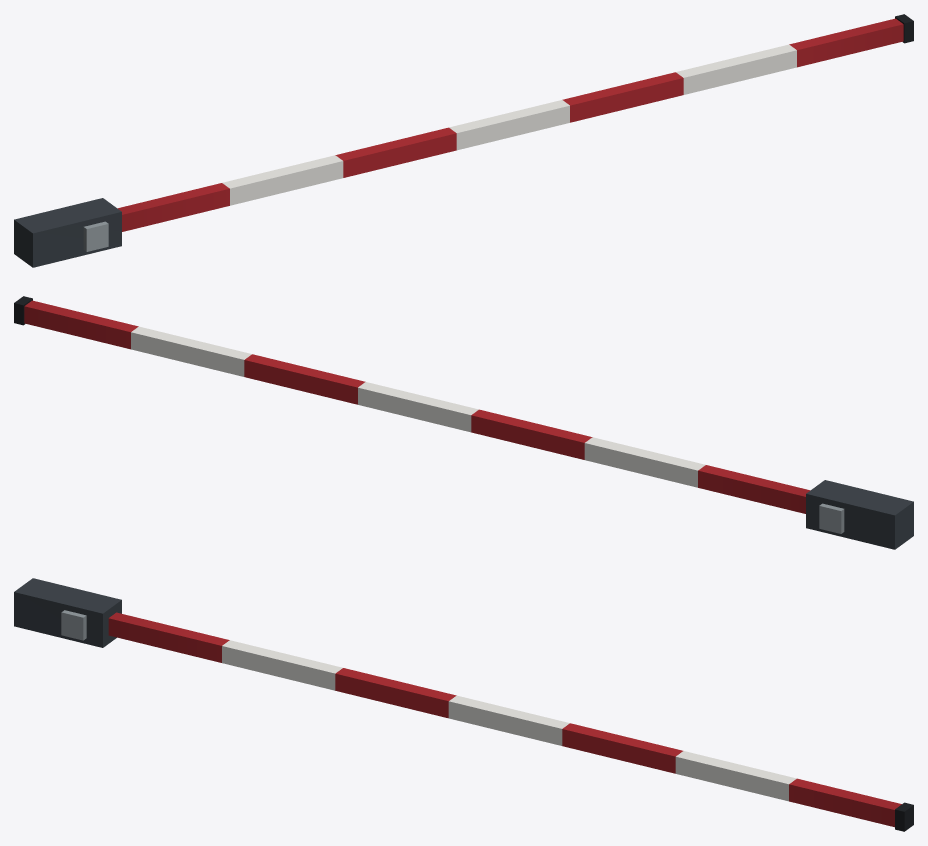
Rendered from barrera-IB7EpYll.glb.
3 views of the same model, one above another, from view 1: azimuth 30°, elevation 25°; view 2: azimuth 150°, elevation 25°; view 3: azimuth 330°, elevation 25° (orthographic).
Visible parts, largest first — view 1: pieza.007, pieza.001, pieza.005, pieza.002, pieza.003, pieza.004, pieza, pieza.006, pieza.008; view 2: pieza.007, pieza.001, pieza.005, pieza.002, pieza.003, pieza.004, pieza, pieza.006, pieza.008; view 3: pieza.007, pieza.003, pieza.001, pieza.005, pieza.002, pieza.004, pieza, pieza.006, pieza.008.
Part boxes in pixels (left/top/right/bottom): pieza.007: left=14, top=198, right=121, bottom=267; pieza.001: left=222, top=155, right=343, bottom=205; pieza.005: left=676, top=44, right=796, bottom=94; pieza.002: left=335, top=127, right=456, bottom=177; pieza.003: left=449, top=100, right=569, bottom=150; pieza.004: left=562, top=72, right=683, bottom=122; pieza: left=117, top=183, right=229, bottom=231; pieza.006: left=789, top=18, right=903, bottom=67; pieza.008: left=83, top=221, right=108, bottom=251; pieza.007: left=806, top=480, right=913, bottom=549; pieza.001: left=584, top=437, right=705, bottom=487; pieza.005: left=131, top=326, right=251, bottom=376; pieza.002: left=471, top=409, right=592, bottom=459; pieza.003: left=358, top=382, right=478, bottom=432; pieza.004: left=244, top=354, right=365, bottom=404; pieza: left=698, top=465, right=810, bottom=513; pieza.006: left=24, top=300, right=138, bottom=349; pieza.008: left=819, top=503, right=844, bottom=533; pieza.007: left=14, top=578, right=121, bottom=647; pieza.003: left=448, top=695, right=569, bottom=745; pieza.001: left=222, top=640, right=342, bottom=690; pieza.005: left=675, top=751, right=796, bottom=801; pieza.002: left=335, top=668, right=456, bottom=718; pieza.004: left=562, top=723, right=682, bottom=773; pieza: left=108, top=612, right=229, bottom=662; pieza.006: left=789, top=778, right=901, bottom=827; pieza.008: left=61, top=610, right=86, bottom=640.
Size of the model in its own units: 6.47 by 0.24 by 0.32.
